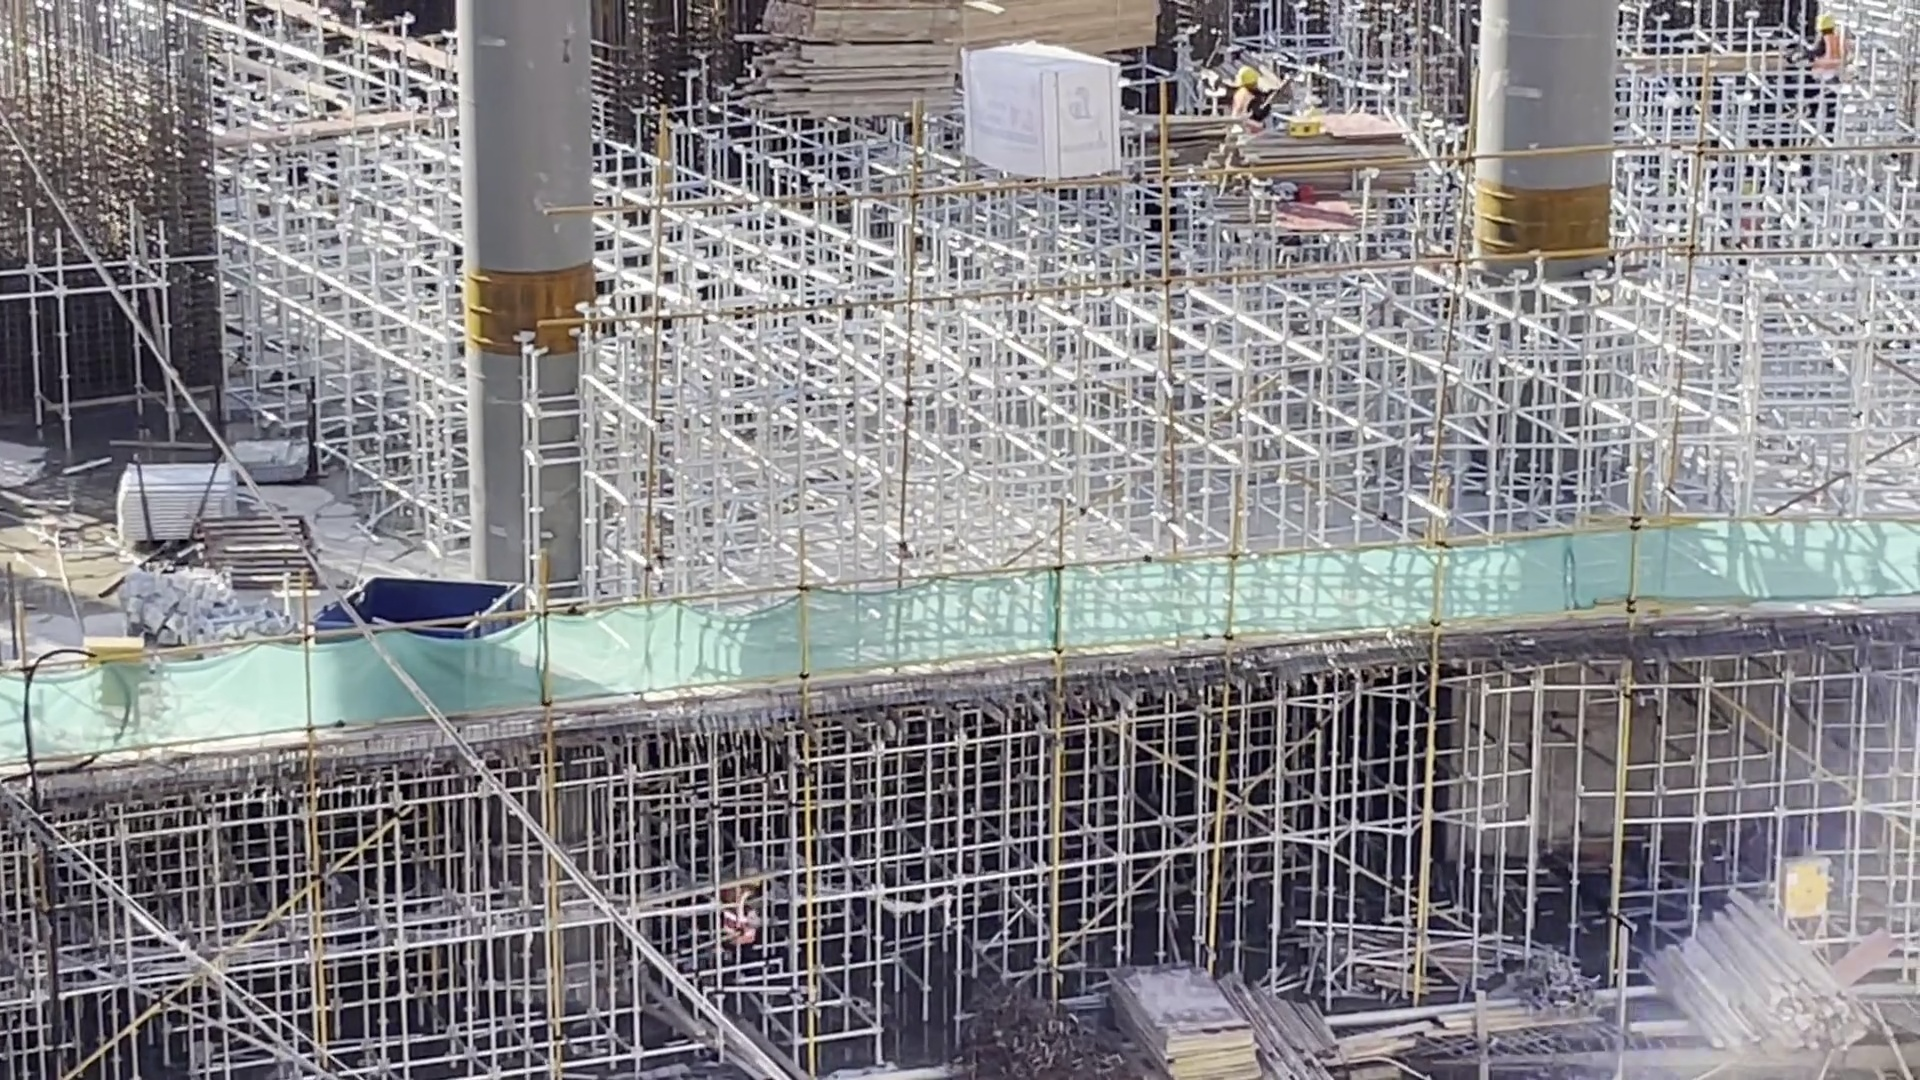board: (1110, 956, 1269, 1080), (1234, 106, 1426, 201)
ebox: (1771, 853, 1834, 926), (81, 634, 148, 656)
helmet: (1235, 64, 1260, 88)
hopper: (295, 574, 534, 634)
person: (1230, 62, 1273, 138)
scaffold: (108, 458, 243, 516)
vest: (1233, 90, 1265, 137)
wood: (1645, 882, 1875, 1064), (740, 5, 959, 117), (958, 1, 1164, 54), (1262, 985, 1334, 1080)
